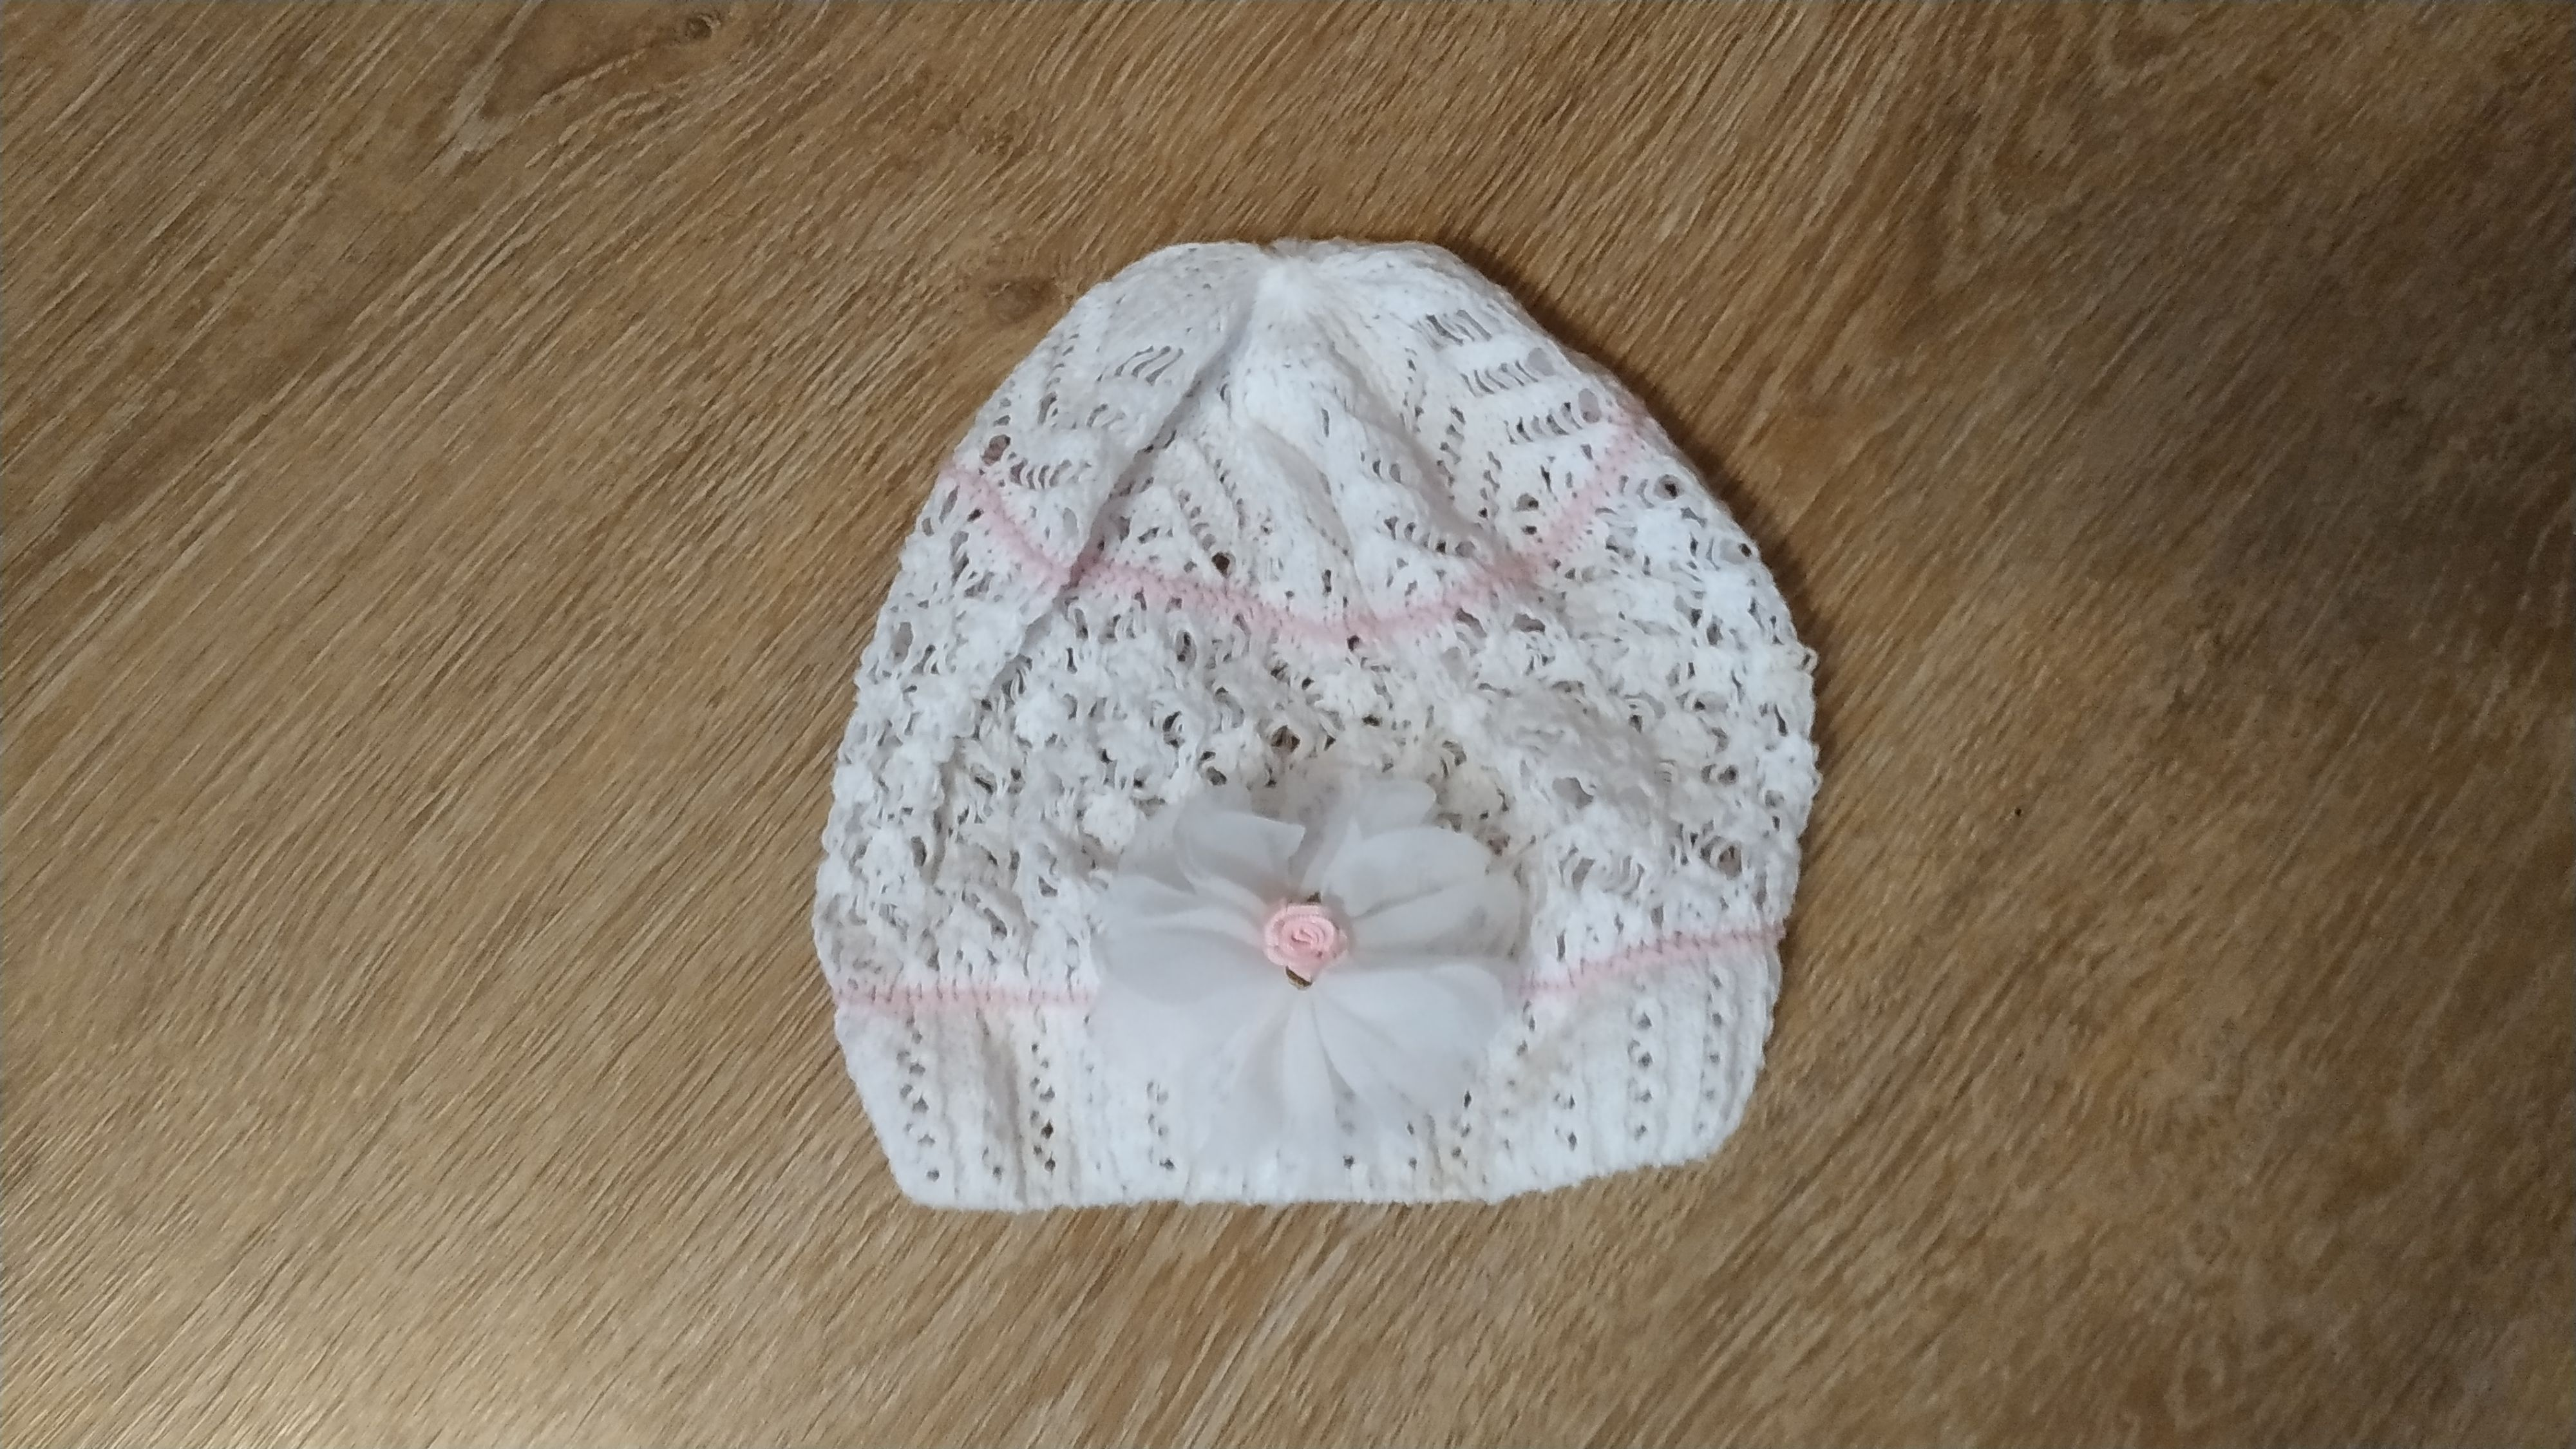clothes: (794, 214, 1836, 1201)
